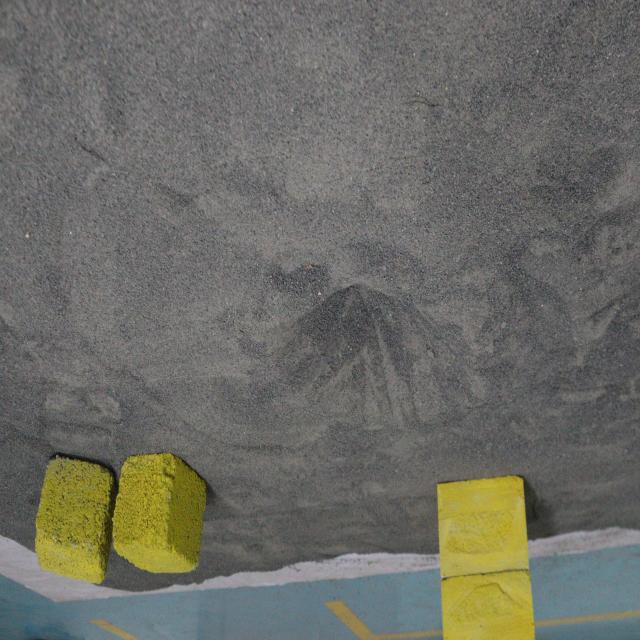box: (430, 461, 536, 640), (109, 437, 211, 579), (32, 455, 112, 585)
crater: (274, 272, 462, 426)
